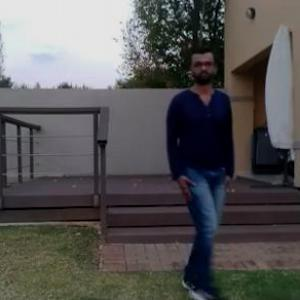follow: (153, 43, 236, 293)
